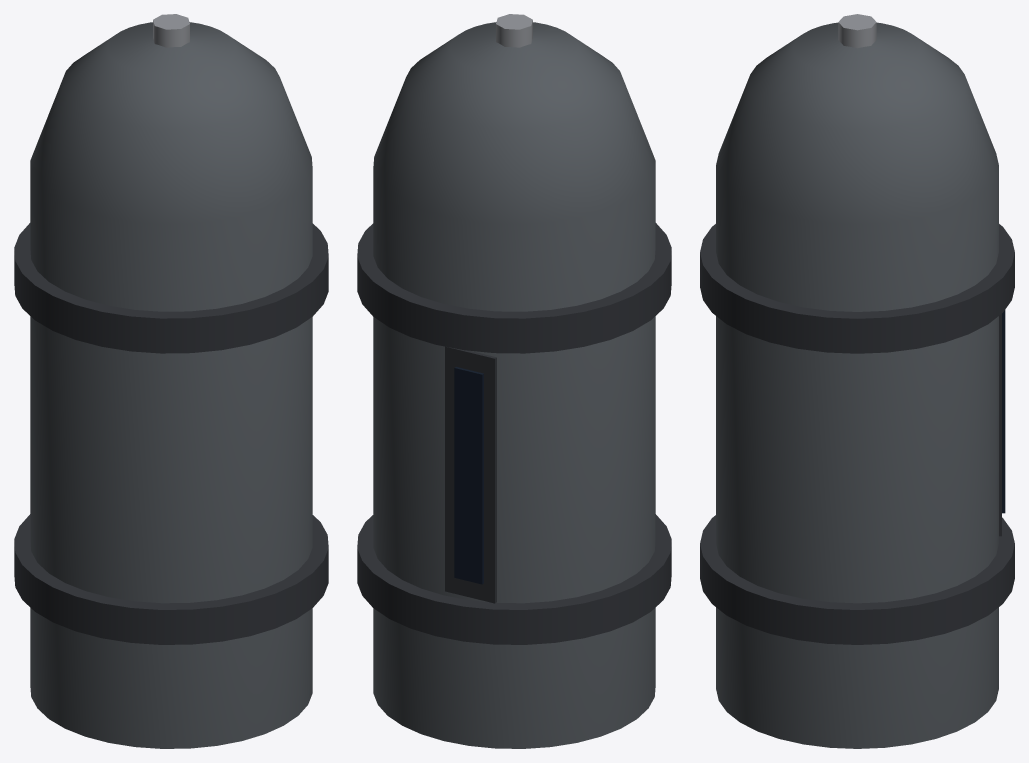
Rendered from cl180_fluid.obj.
3 views of the same model, side by side, from view 1: azimuth 30°, elevation 25°; view 2: azimuth 150°, elevation 25°; view 3: azimuth 270°, elevation 25° (orthographic).
Parts seen in each view (by area): view 1: cl180_fluid; view 2: cl180_fluid; view 3: cl180_fluid.
Boxes of the visible parts, left/top/right/bottom form: cl180_fluid: left=14, top=14, right=328, bottom=748; cl180_fluid: left=357, top=14, right=671, bottom=748; cl180_fluid: left=700, top=14, right=1014, bottom=748.
Bounding box in the file's own units: 0.49 × 1.15 × 0.49.
